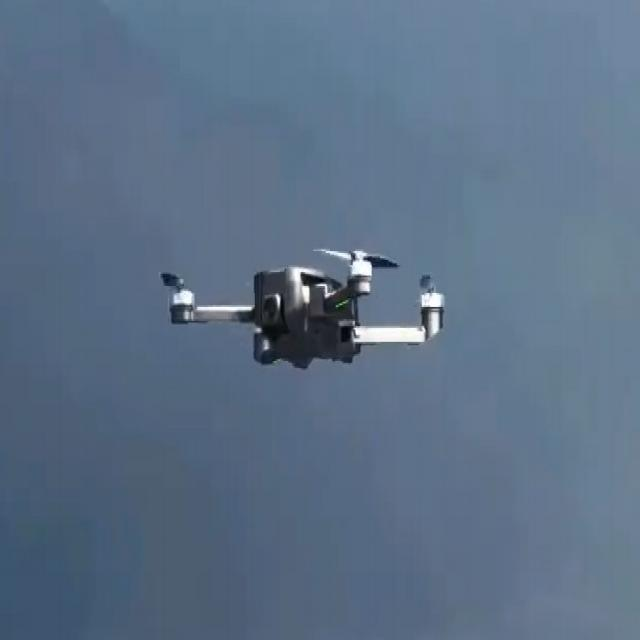drone: (148, 208, 464, 386)
